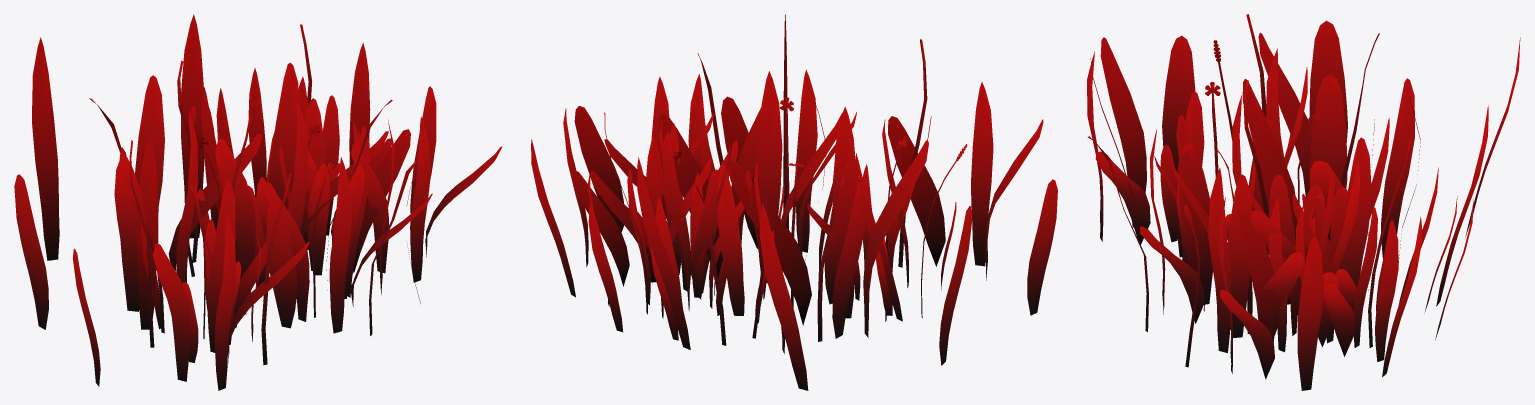
File: game_grass.fbx
The picture shows the model from 3 angles, left to right: view 1: azimuth 30°, elevation 25°; view 2: azimuth 150°, elevation 25°; view 3: azimuth 270°, elevation 25°; orthographic projection. The views are drawn at different scales.
Visible parts, largest first — view 1: Circle; view 2: Circle; view 3: Circle.
Boxes of the visible parts, x1=… form: Circle: x1=14, y1=14, x2=502, y2=390; Circle: x1=531, y1=14, x2=1057, y2=390; Circle: x1=1087, y1=14, x2=1520, y2=390.
Size of the model in its own units: 34.89 by 15.61 by 27.62.
